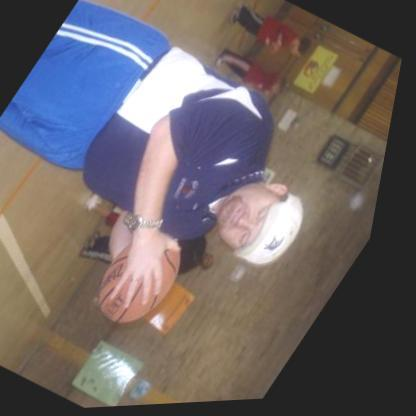basketball: (89, 218, 213, 339)
